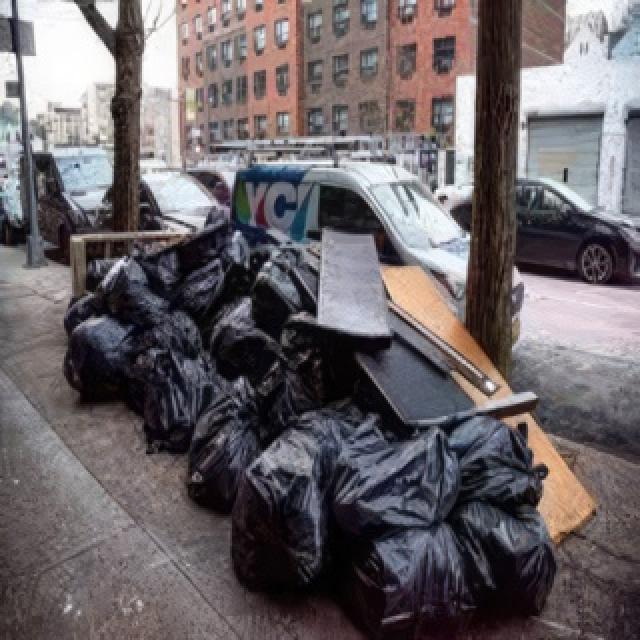high trash: (67, 224, 597, 640)
